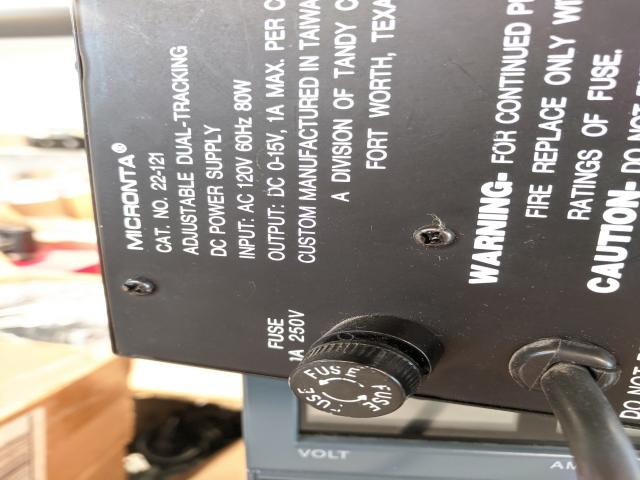CRS: (411, 225, 460, 251), (119, 278, 158, 297)
